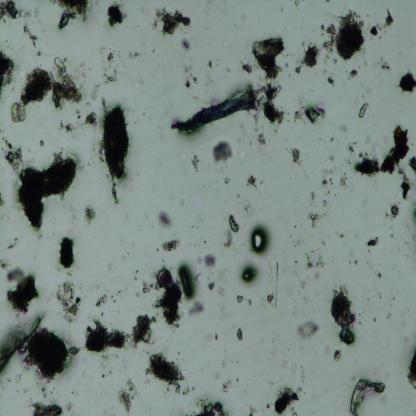Air bubble: (251, 226, 270, 257)
Background material: (0, 138, 81, 235), (0, 314, 82, 385), (350, 124, 411, 204), (96, 94, 132, 206), (18, 57, 87, 109), (260, 332, 315, 386), (318, 8, 368, 63), (140, 264, 182, 329), (0, 258, 39, 313), (328, 284, 358, 348), (146, 352, 189, 394), (84, 318, 129, 358), (149, 4, 195, 38), (253, 37, 287, 82), (256, 82, 286, 128), (54, 279, 83, 325), (53, 0, 95, 31), (131, 312, 156, 350), (58, 112, 98, 135), (97, 46, 121, 84), (116, 378, 139, 414), (295, 40, 318, 75), (56, 235, 77, 273), (272, 387, 300, 415), (178, 264, 199, 301), (0, 49, 16, 97), (288, 102, 324, 122), (294, 314, 319, 342), (216, 269, 228, 323), (106, 2, 128, 30), (194, 398, 228, 416), (210, 138, 233, 164), (29, 398, 64, 415), (340, 243, 362, 270), (302, 251, 329, 271), (292, 276, 314, 300), (223, 216, 239, 249), (238, 264, 260, 287), (0, 235, 22, 256), (0, 0, 21, 22), (9, 101, 28, 125), (214, 352, 235, 373), (321, 168, 332, 208), (398, 70, 416, 94), (406, 348, 416, 391), (23, 25, 39, 51), (182, 66, 199, 90), (101, 353, 116, 377), (158, 207, 173, 230), (382, 5, 395, 30), (95, 288, 109, 310), (82, 206, 97, 225), (160, 238, 180, 252), (202, 254, 218, 271), (306, 210, 322, 226), (339, 170, 350, 192), (189, 300, 204, 316), (368, 267, 384, 282), (247, 172, 260, 190), (347, 65, 360, 83), (366, 234, 381, 249), (345, 139, 360, 154), (376, 58, 392, 72), (408, 205, 416, 231), (407, 153, 416, 176), (291, 146, 302, 164), (240, 60, 254, 73), (255, 130, 265, 148), (388, 204, 399, 219), (332, 347, 341, 365), (359, 100, 368, 118), (222, 379, 232, 395), (180, 37, 190, 52), (266, 296, 278, 307), (192, 154, 198, 175), (206, 280, 216, 292), (369, 25, 379, 37), (327, 76, 337, 86), (236, 328, 244, 340), (337, 229, 345, 240), (134, 268, 141, 280), (223, 175, 231, 185), (236, 294, 244, 304), (386, 310, 394, 320), (340, 124, 346, 136), (207, 60, 213, 68), (294, 0, 300, 6)
Cellulose filter fibre: (349, 380, 386, 414)
Cotton: (172, 90, 257, 134)
